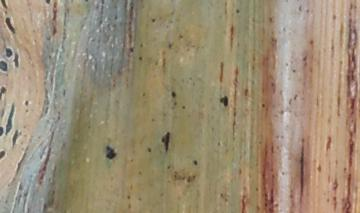tarspot: (158, 129, 172, 155), (103, 141, 118, 163), (3, 13, 17, 34), (7, 97, 14, 136), (216, 92, 231, 109), (13, 45, 21, 69), (1, 59, 12, 76), (10, 129, 20, 147), (190, 156, 201, 170), (167, 87, 178, 101), (3, 44, 13, 58), (1, 147, 8, 162), (1, 1, 10, 12), (1, 122, 4, 140)
